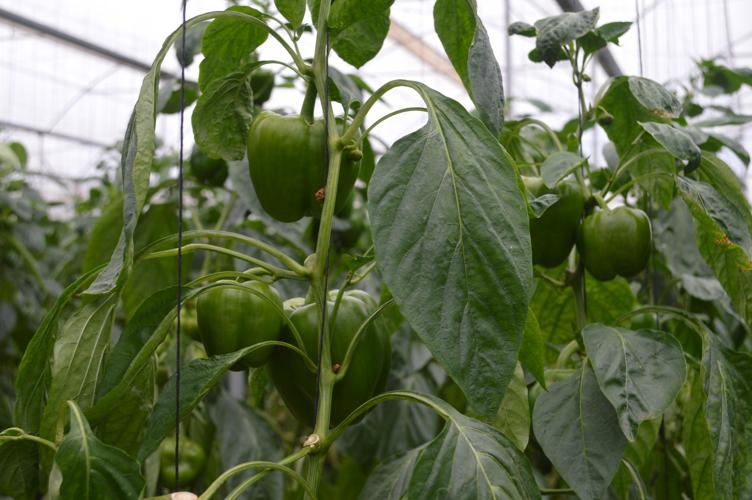BellPepper: (275, 294, 393, 439), (241, 112, 373, 221), (192, 276, 291, 386), (569, 185, 655, 278), (150, 430, 209, 498)
